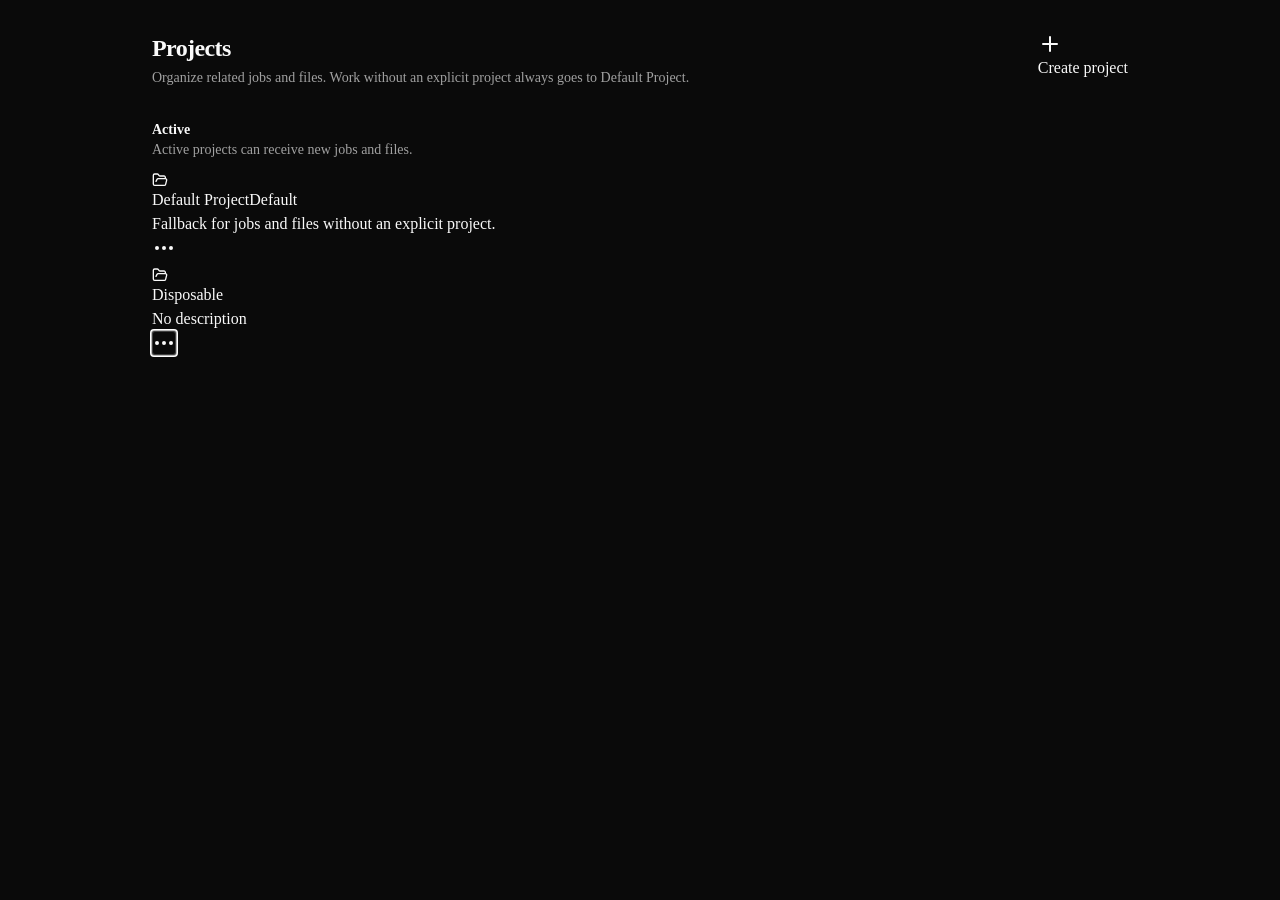
Scenario: explains the empty-only, non-migrating delete rule before deletion
Step 1. Press Enter
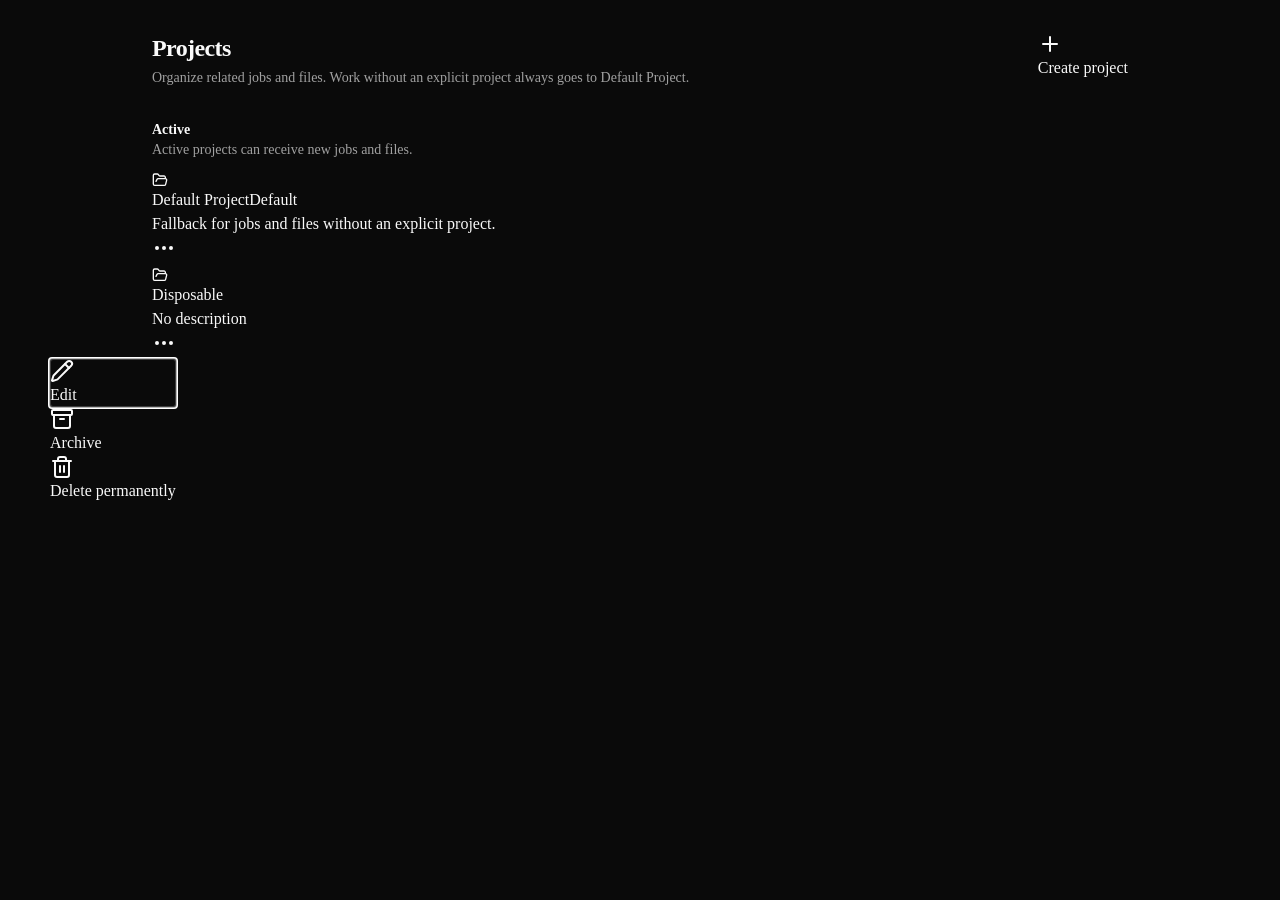
Step 2. Click the menu item "Delete permanently" → (113, 479), box [50,455,176,503]
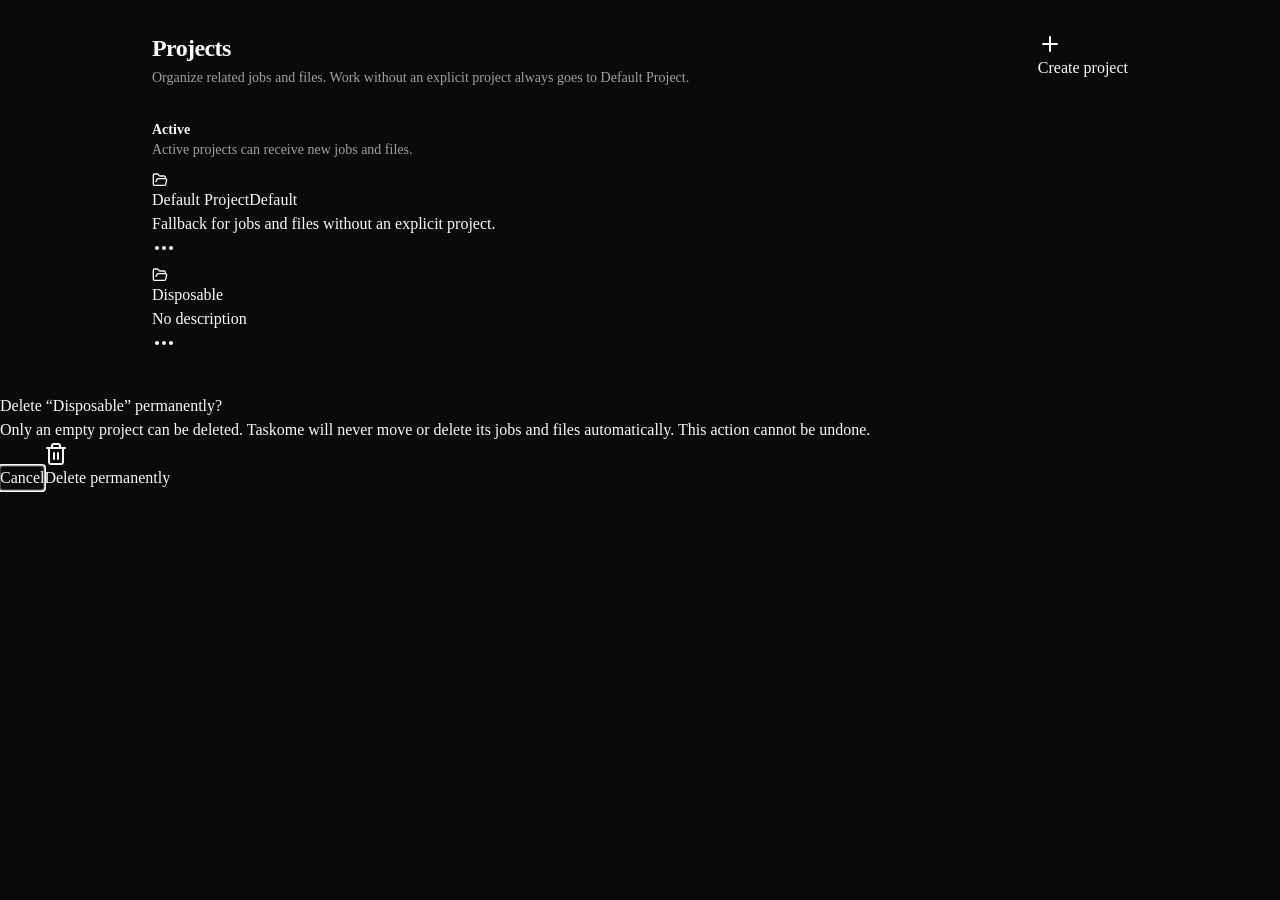
expect the text "Only an empty project can be deleted. Taskome will never move or delete its jobs and files automatically." is shown: met, box [0,421,870,438]
